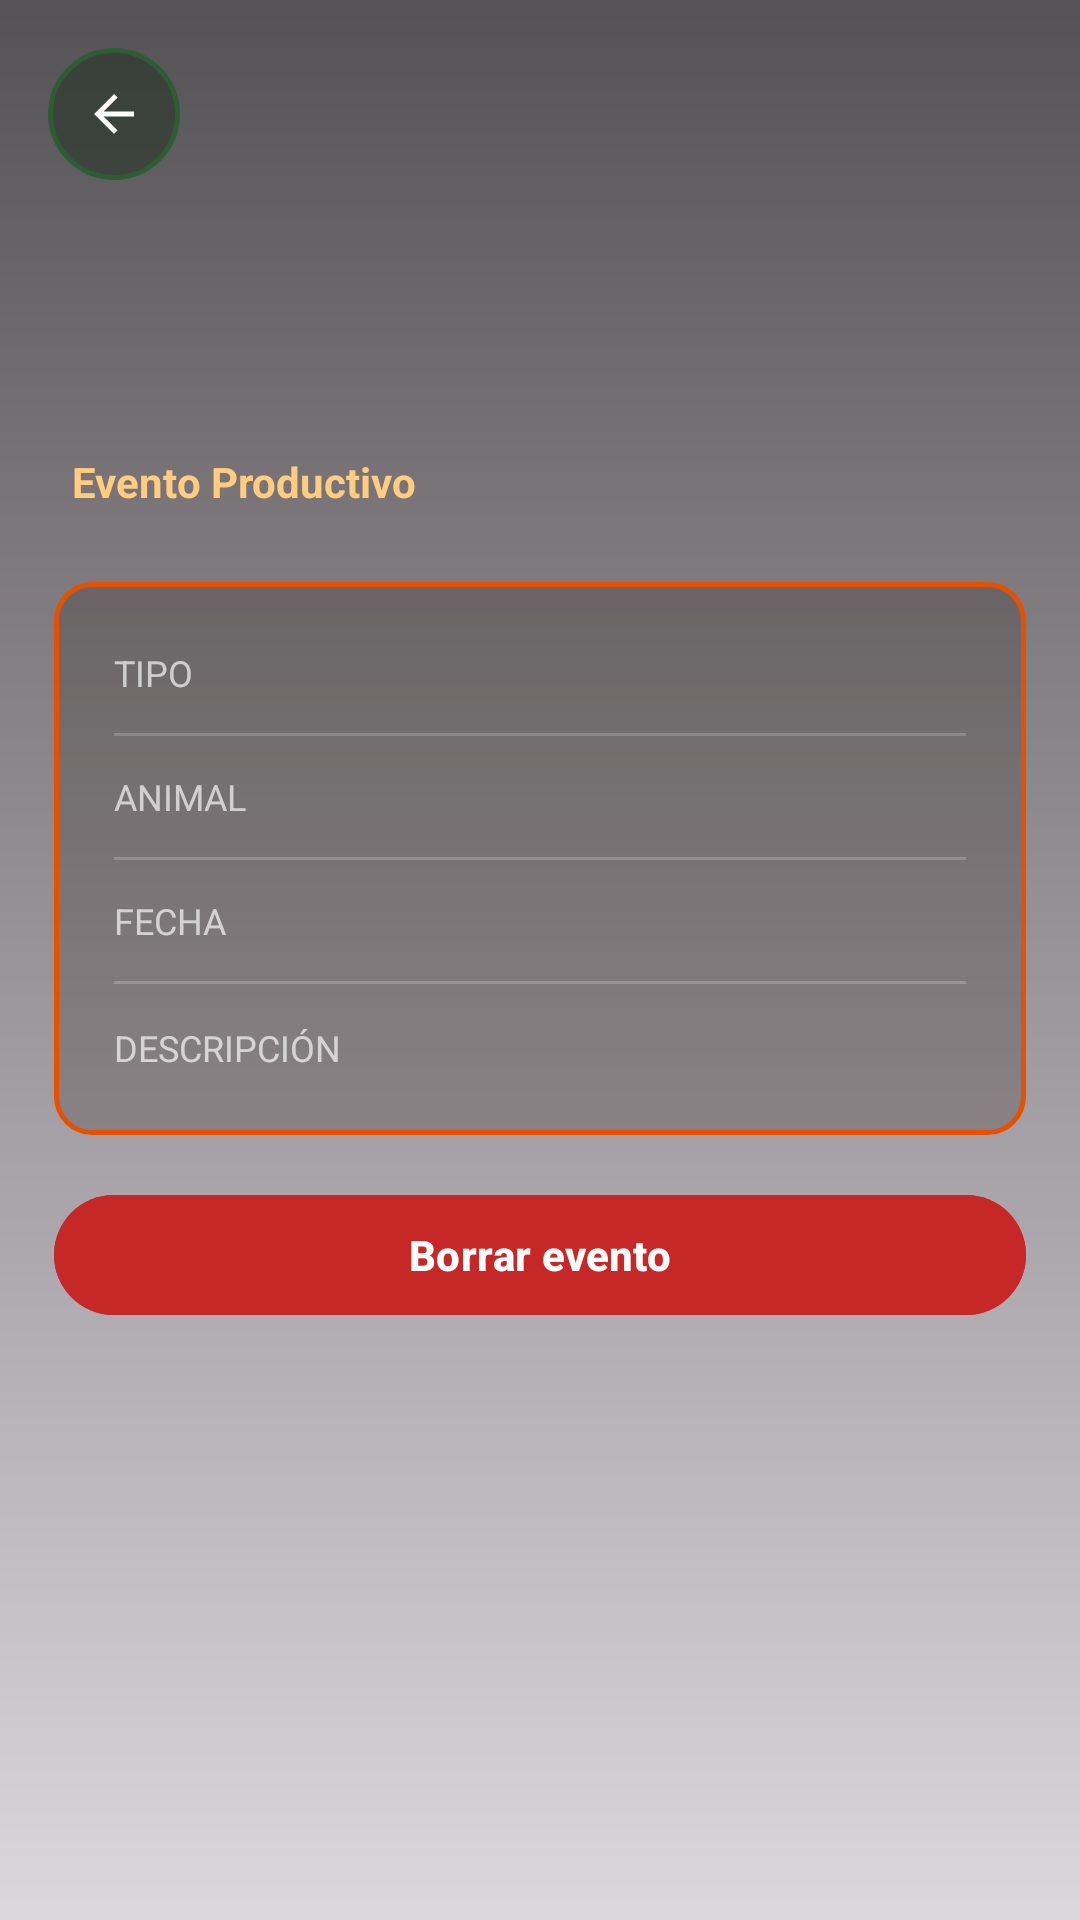

Icons on this 1080*1920 Android screen, each with the point to tap as point (x, y):
arrow back: point (114, 114)
